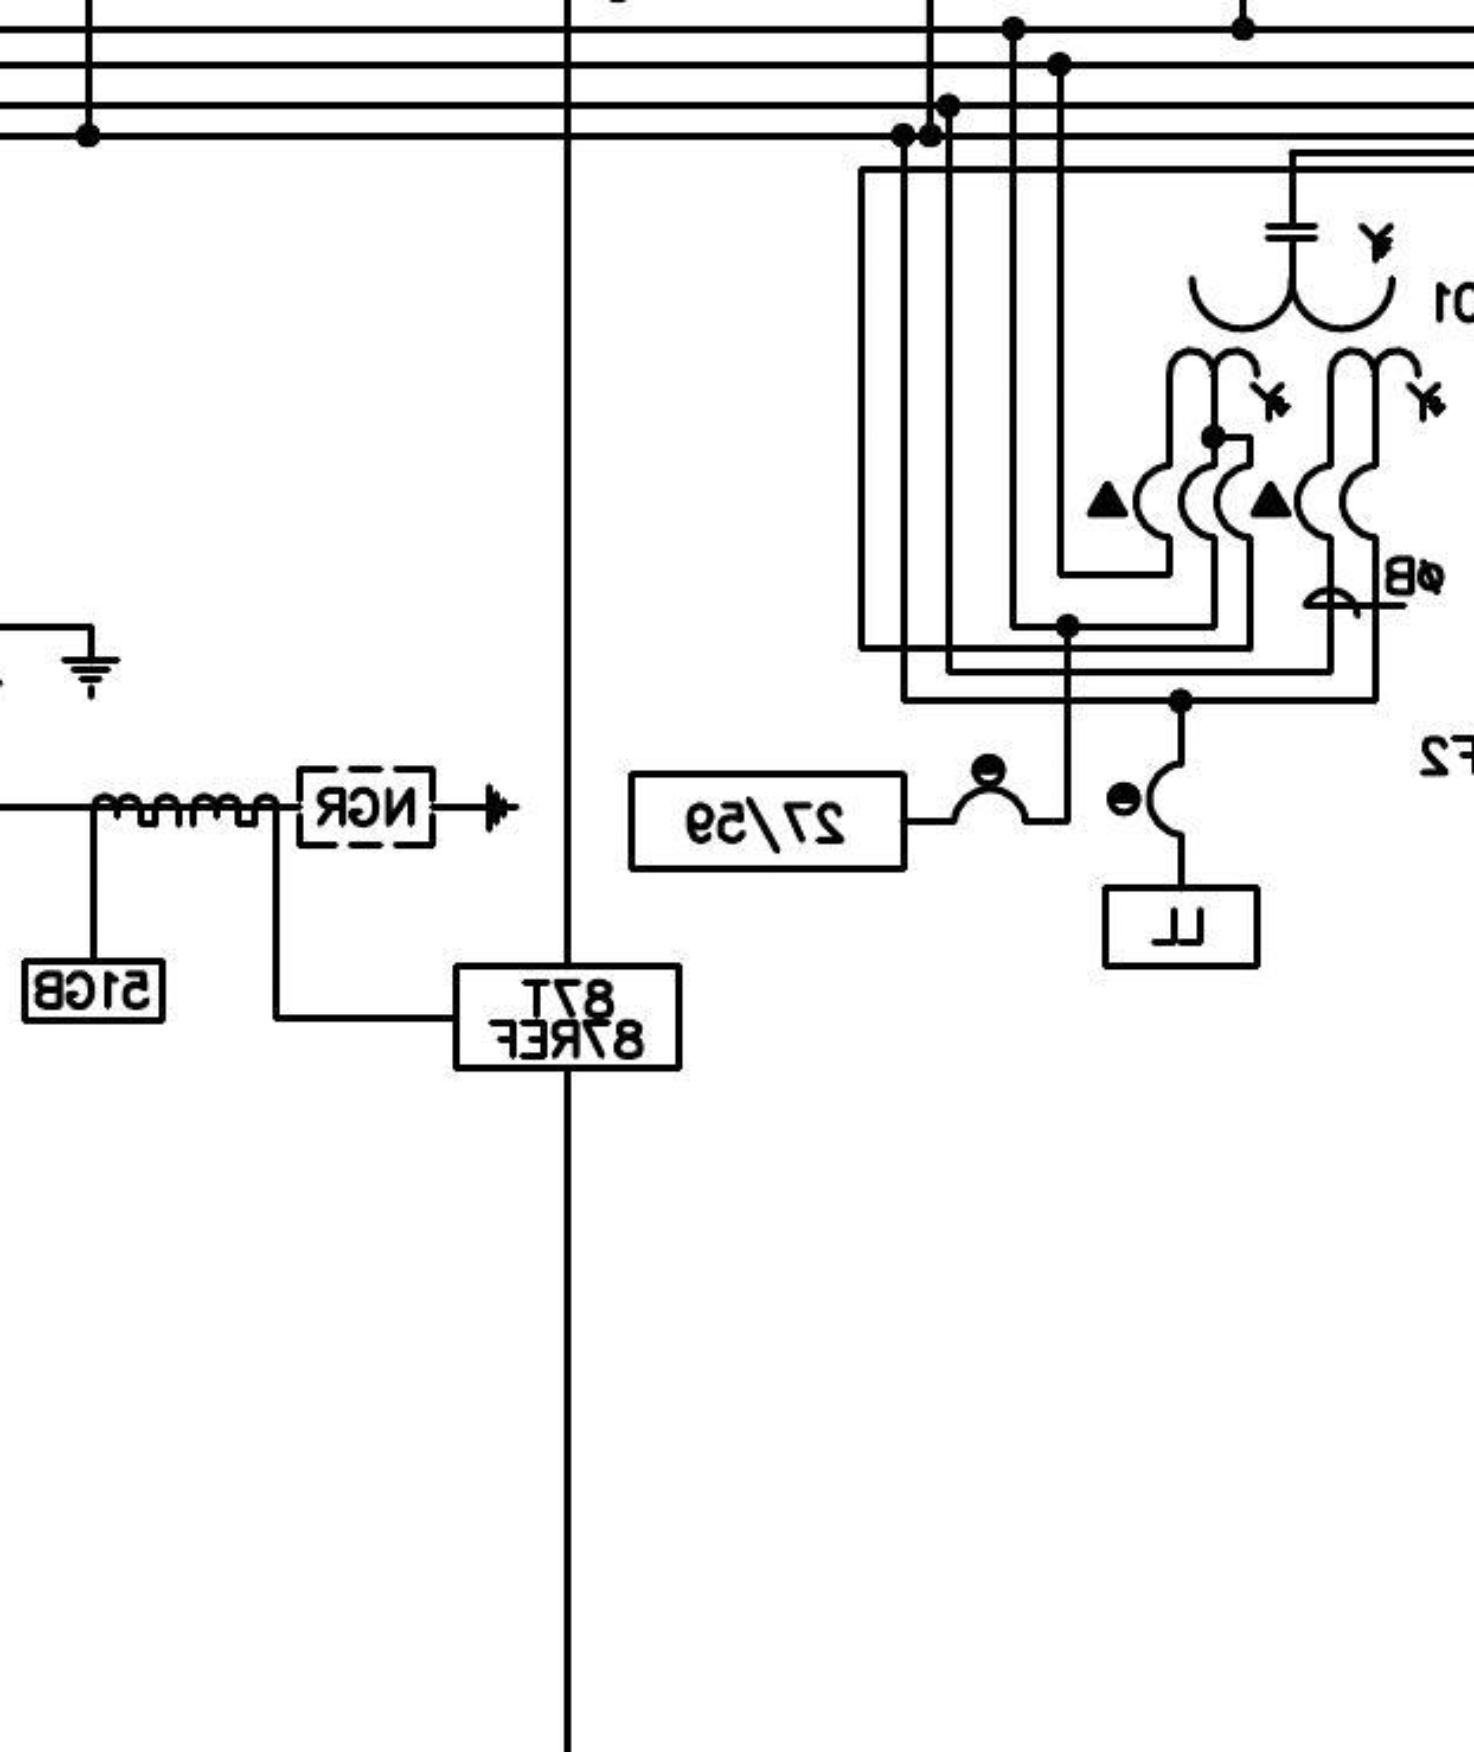115_cvt_3p: (1164, 222, 1449, 424)
LL: (1103, 883, 1261, 971)
NGR_future: (295, 763, 521, 850)
